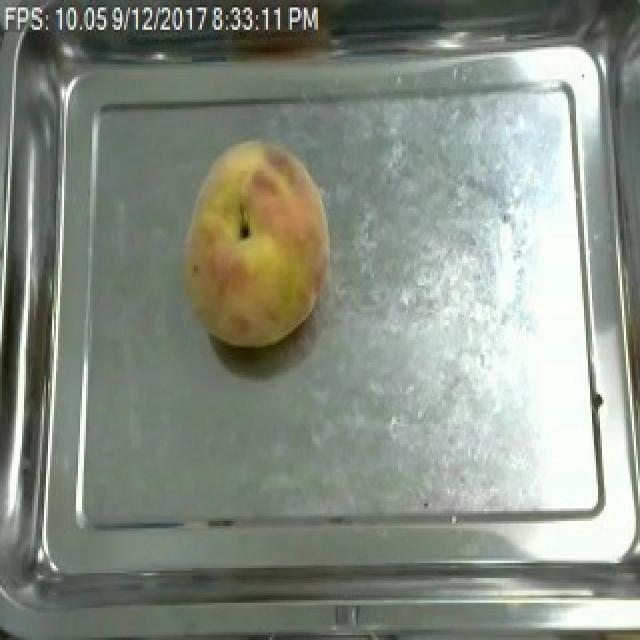Fruit: (176, 131, 338, 355)
